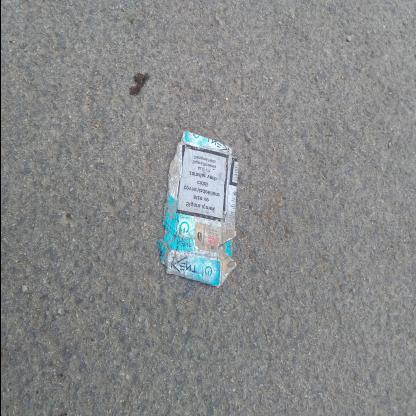karton: (158, 132, 238, 290)
